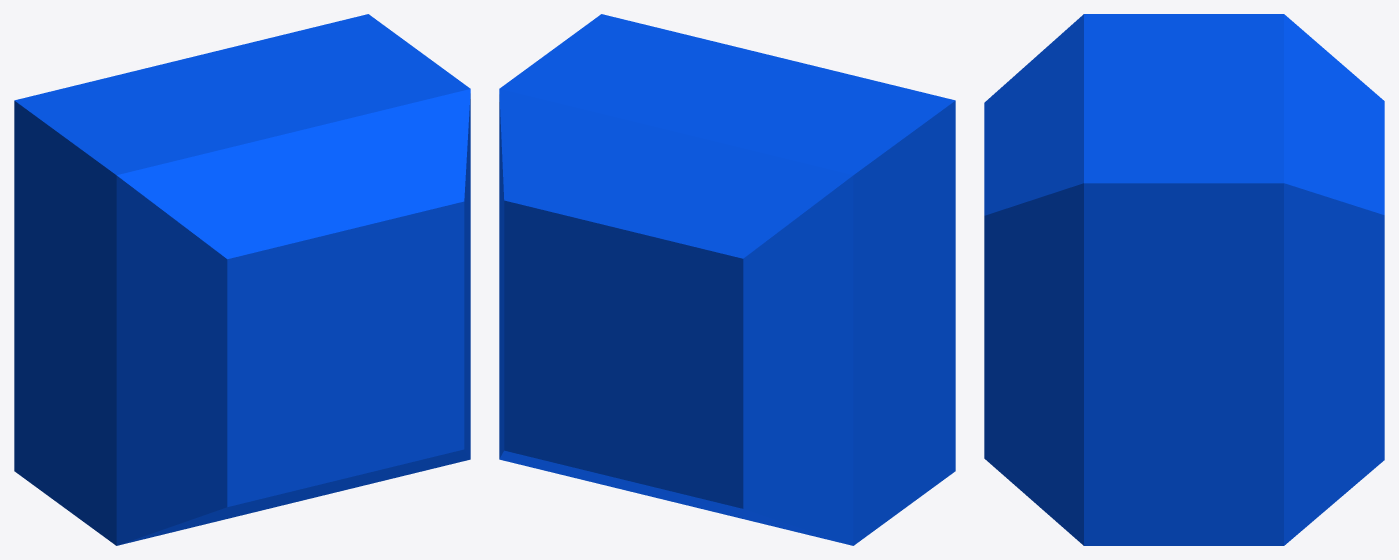
File: UD_Movil.fbx
The picture shows the model from 3 angles, left to right: view 1: azimuth 30°, elevation 25°; view 2: azimuth 150°, elevation 25°; view 3: azimuth 270°, elevation 25°; orthographic projection. The views are drawn at different scales.
Visible parts, largest first — view 1: Cube.119; view 2: Cube.119; view 3: Cube.119.
Part boxes in pixels (x1=…): Cube.119: x1=14, y1=14, x2=470, y2=545; Cube.119: x1=499, y1=14, x2=955, y2=545; Cube.119: x1=984, y1=14, x2=1384, y2=545.
Bounding box in the file's own units: 100 × 100 × 100.
